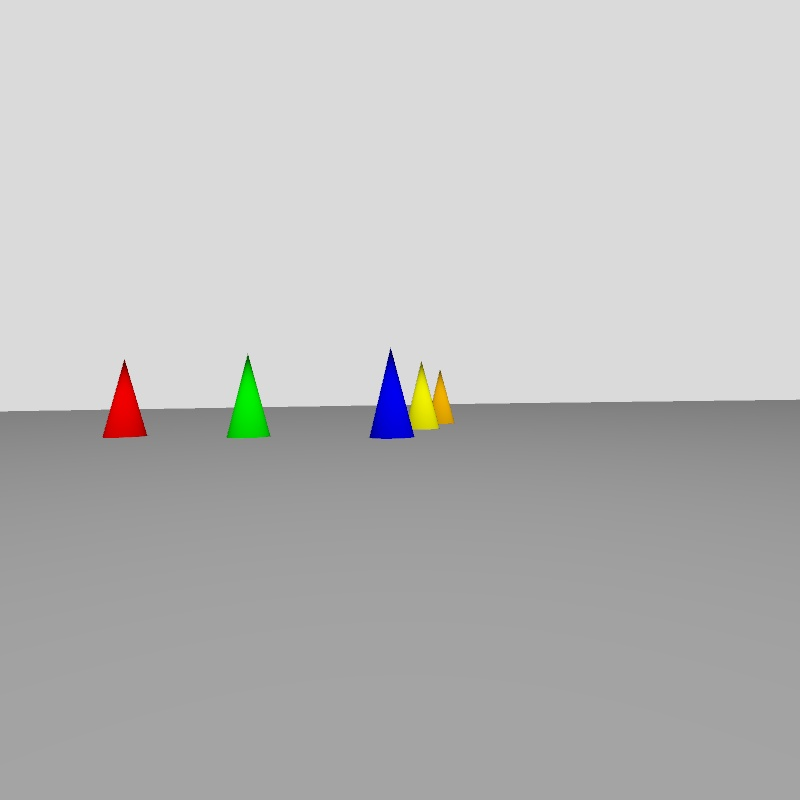Blue_cone: (372, 349, 413, 438)
Green_cone: (227, 355, 270, 437)
Orange_cone: (433, 371, 452, 424)
Red_cone: (103, 361, 146, 437)
Yellow_cone: (409, 363, 438, 431)
